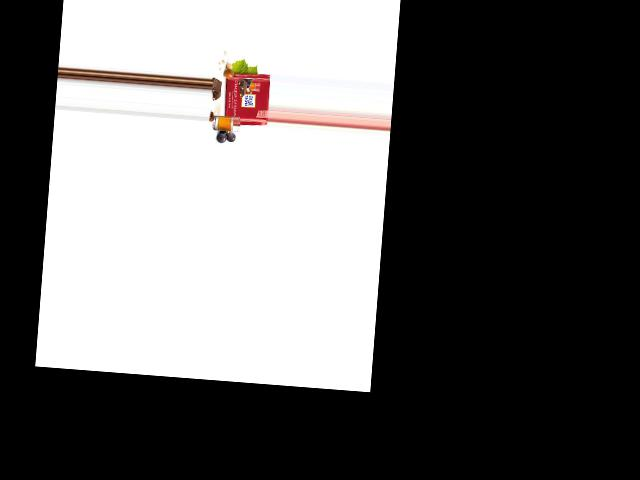chocolate: (223, 69, 270, 125)
